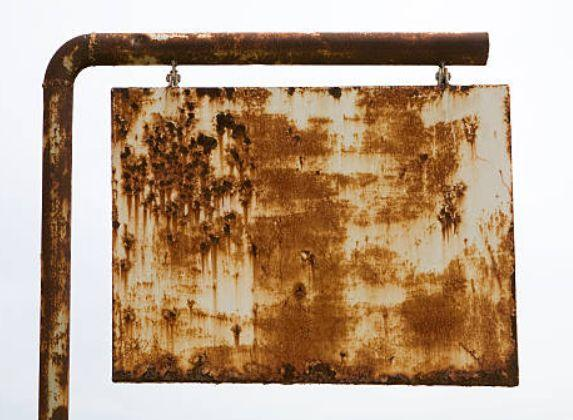metal: (6, 1, 570, 416), (107, 81, 524, 389)
